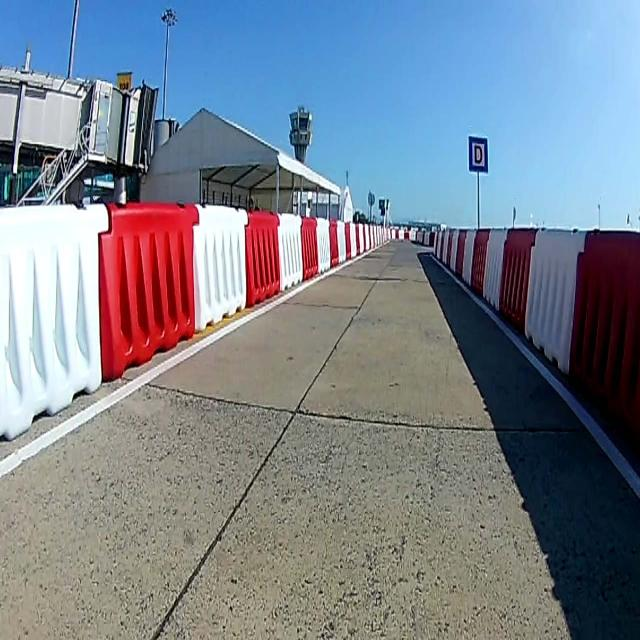durak: (467, 135, 489, 173)
